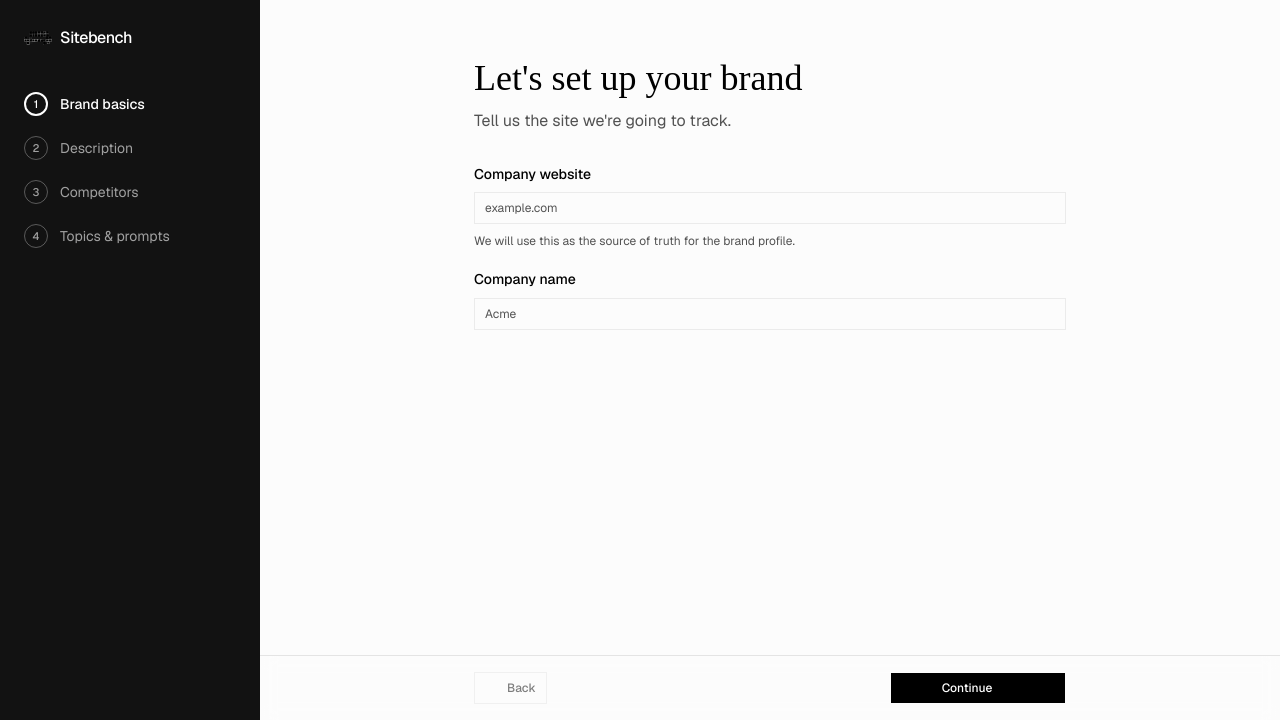
Scenario: Onboarding wizard › blocks invalid step 1 submissions
The image size is (1280, 720).
Click the button "Continue": (978, 688) [890, 672, 1066, 704]
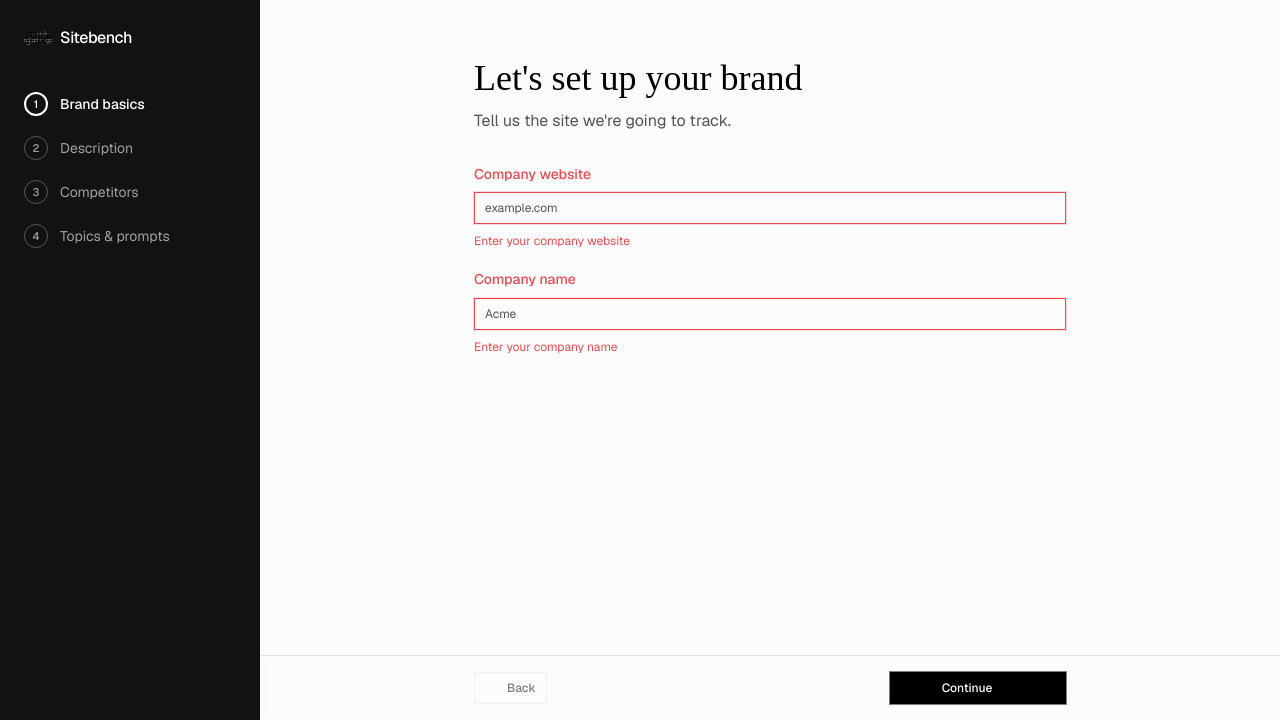
Expected: the text "Enter your company website" is shown, [474, 233, 630, 249]
Expected: the text "Enter your company name" is shown, [474, 338, 618, 354]
